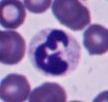N: (30, 27, 81, 76)
